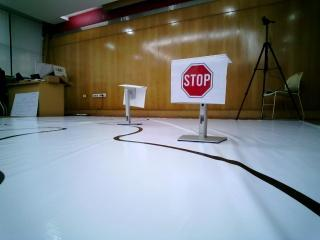stop: (173, 59, 222, 98)
